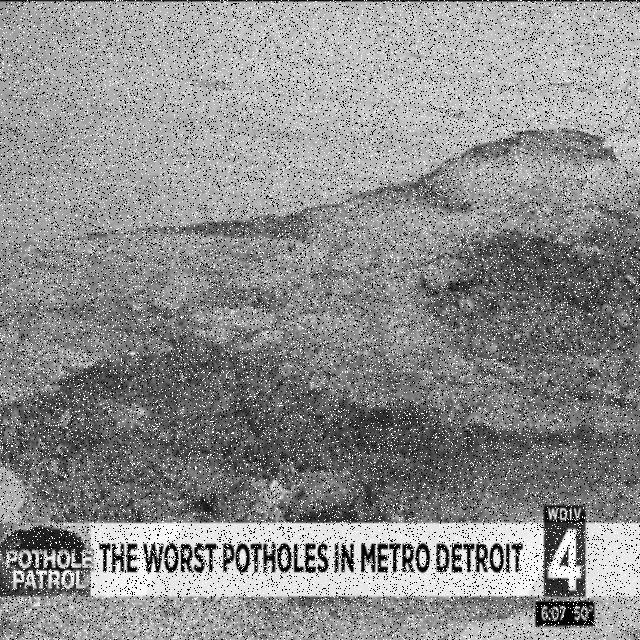pothole: (0, 115, 637, 507)
